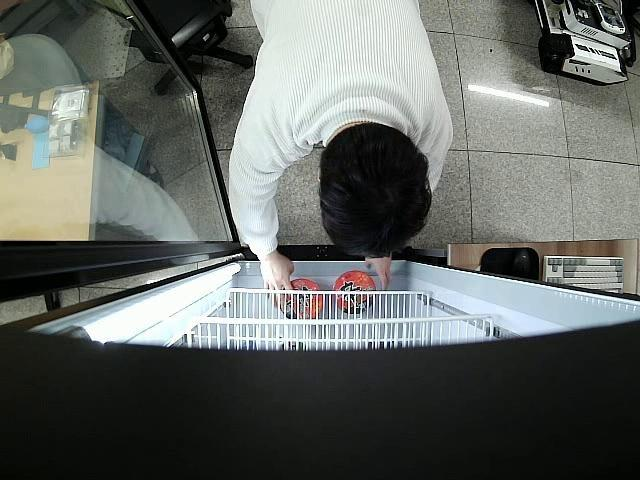01_ShinRamen_L: (280, 280, 326, 319), (334, 270, 376, 310)
